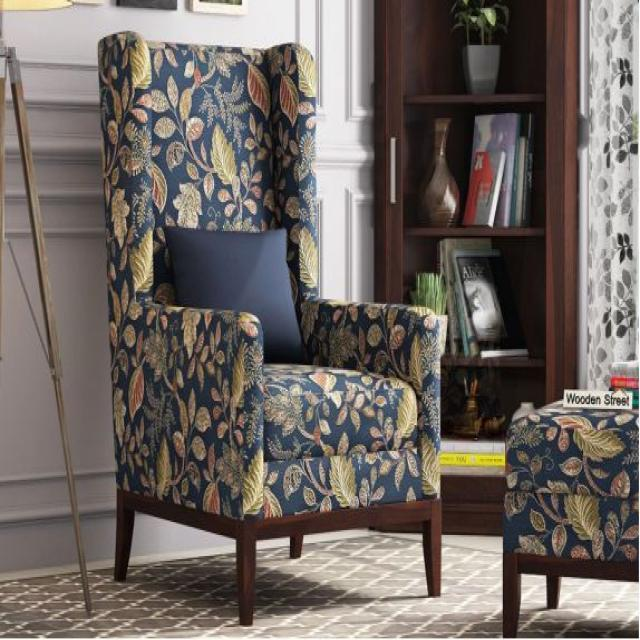obstacle: (93, 25, 445, 598)
